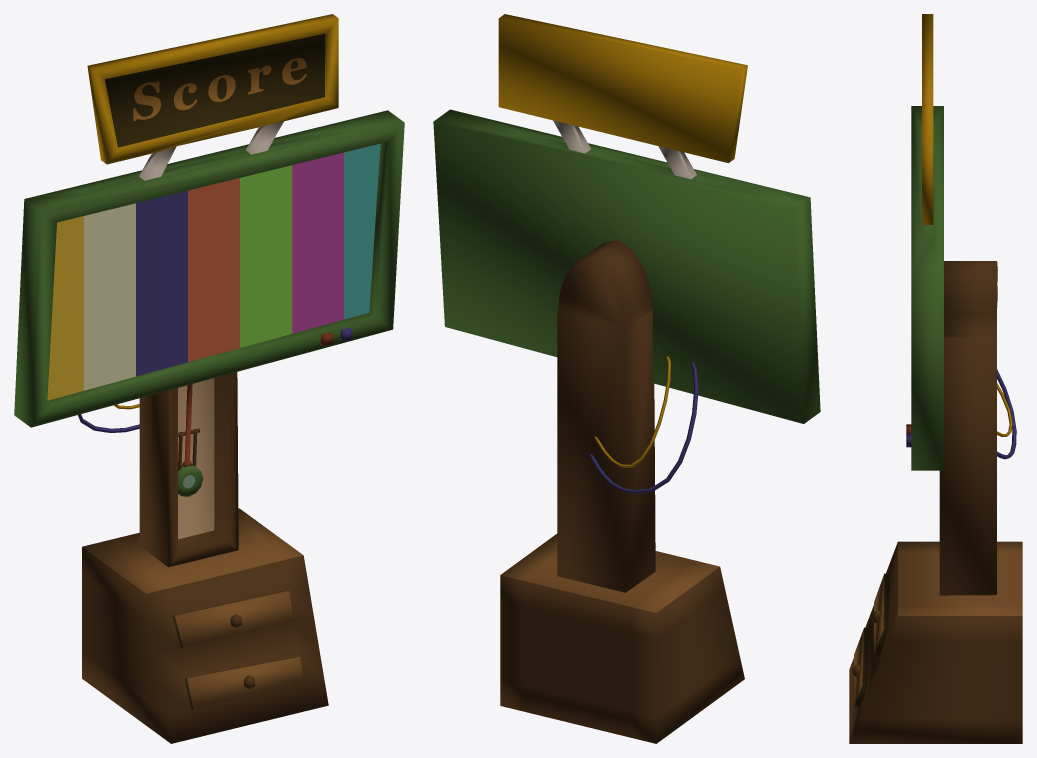
File: Cloak Board.fbx
The picture shows the model from 3 angles, left to right: view 1: azimuth 30°, elevation 25°; view 2: azimuth 150°, elevation 25°; view 3: azimuth 270°, elevation 25°; orthographic projection. The views are drawn at different scales.
Visible parts, largest first — view 1: Cloak Board Base, Cloak Board Monitor, Cloak Board Pendulum; view 2: Cloak Board Base; view 3: Cloak Board Base.
Boxes of the visible parts, bbox=[...] form: Cloak Board Base: bbox=[14, 14, 404, 743]; Cloak Board Monitor: bbox=[47, 143, 380, 400]; Cloak Board Pendulum: bbox=[178, 384, 203, 496]; Cloak Board Base: bbox=[433, 14, 820, 743]; Cloak Board Base: bbox=[849, 14, 1022, 743].
Size of the model in its own units: 3.8 by 6.38 by 1.57.
